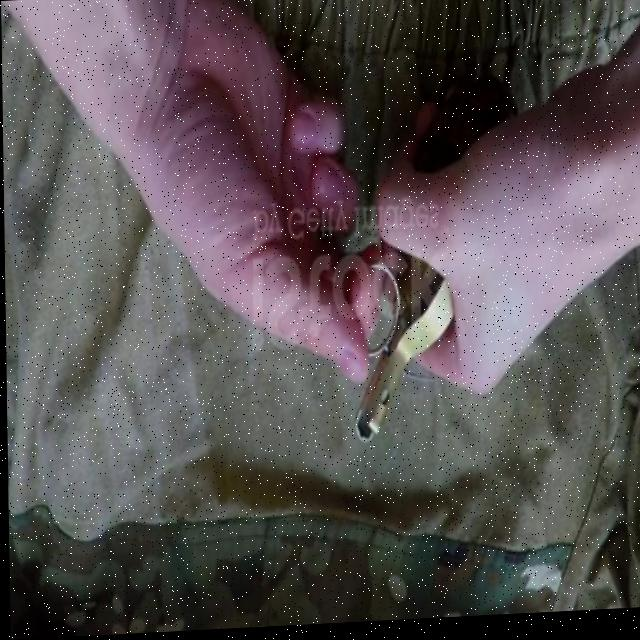grenade: (354, 79, 518, 448)
